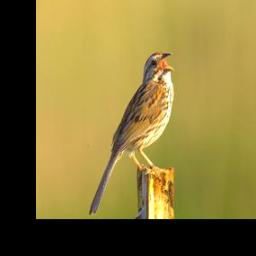Sparrow: (87, 50, 174, 214)
